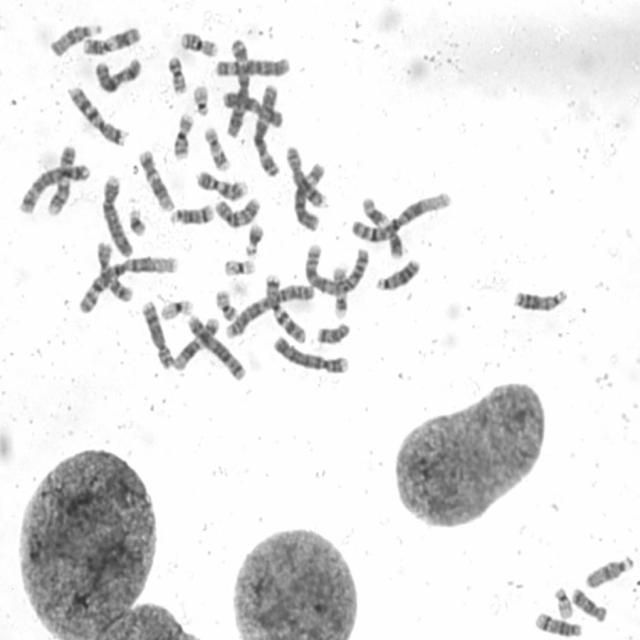A1: (76, 252, 180, 315), (349, 188, 453, 243)
A2: (222, 280, 315, 340), (301, 238, 370, 296)
A3: (250, 81, 282, 179), (222, 35, 251, 140)
B4: (270, 332, 350, 376), (99, 170, 135, 258)
B5: (185, 311, 246, 381), (15, 161, 91, 216)
C10: (95, 238, 134, 303), (211, 194, 262, 230)
C11: (359, 193, 405, 260), (80, 24, 142, 56)
C12: (171, 313, 221, 372), (136, 146, 176, 213)
C6: (291, 160, 328, 233), (211, 53, 291, 79)
C7: (65, 83, 127, 146), (262, 270, 308, 344)
C8: (282, 142, 327, 209), (139, 298, 173, 371)
C9: (44, 142, 78, 217), (193, 167, 250, 202)
D13: (373, 255, 421, 292), (510, 284, 568, 312)
D14: (531, 609, 584, 637), (167, 201, 215, 227)
D15: (48, 19, 103, 58), (583, 552, 634, 590)
E16: (170, 110, 196, 161), (178, 28, 219, 58)
E17: (201, 123, 233, 173), (329, 264, 350, 320)
E18: (569, 584, 609, 624), (314, 319, 352, 345)
F19: (158, 295, 195, 322), (220, 254, 258, 278)
F20: (166, 52, 188, 96), (214, 285, 238, 322)
G21: (242, 220, 266, 257), (127, 205, 147, 237)
G22: (551, 583, 576, 621), (190, 80, 212, 118)
X: (218, 92, 289, 134), (92, 54, 143, 96)
